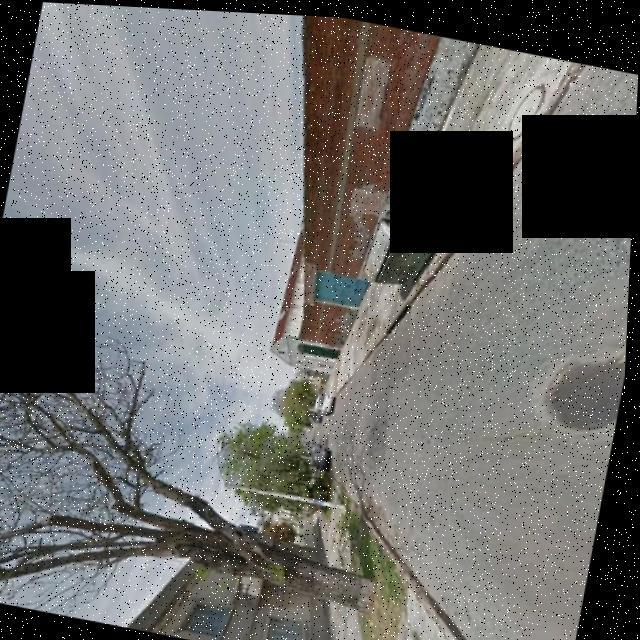bin: (356, 188, 456, 297)
